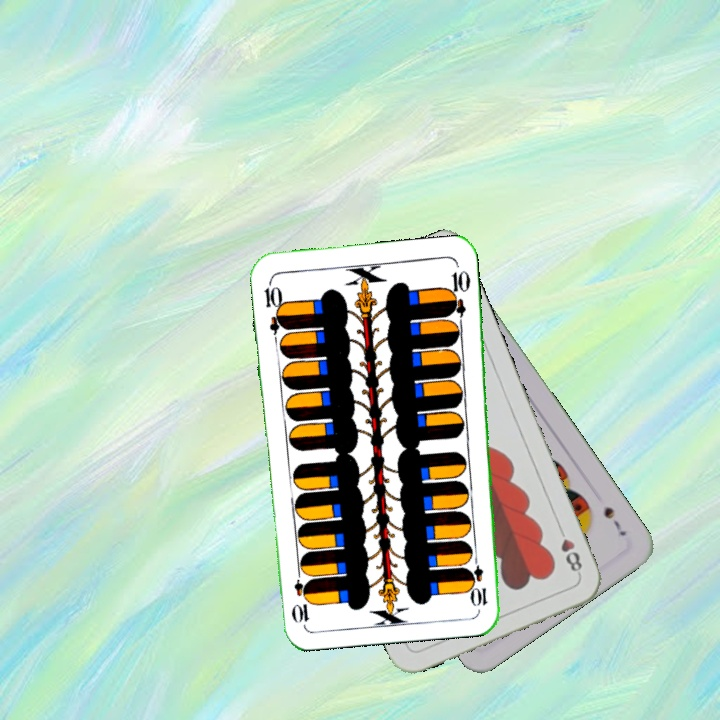E10: (260, 276, 288, 336), (467, 550, 491, 609)
H8: (554, 522, 585, 578)
S7: (600, 502, 629, 539)
